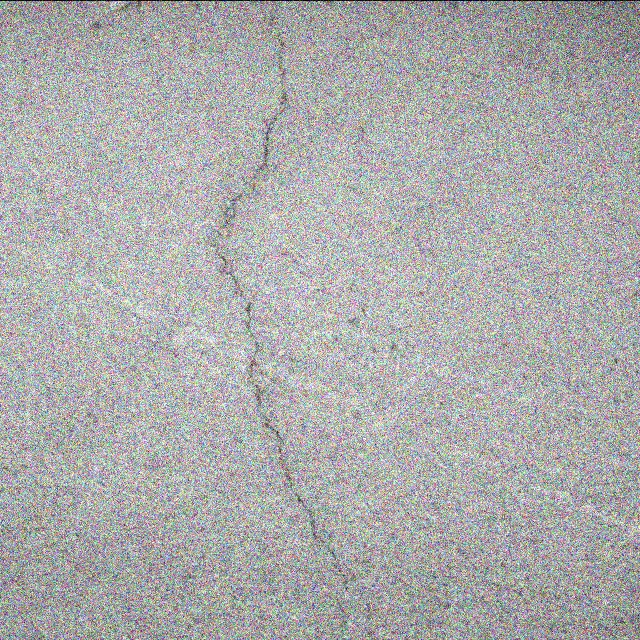SurfaceCrack: (190, 0, 366, 639)
